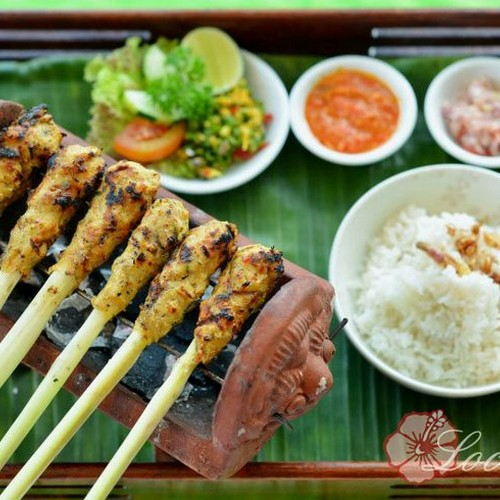sate languan: (5, 108, 281, 348)
